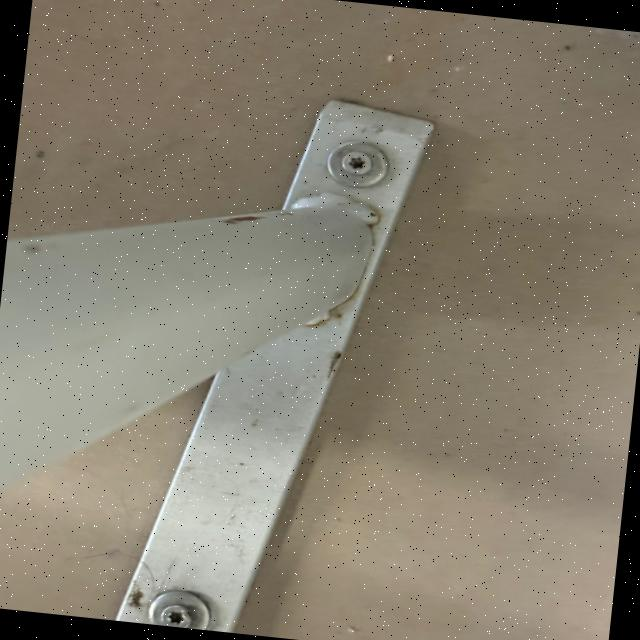Torx: (334, 146, 384, 182), (154, 598, 206, 630)
